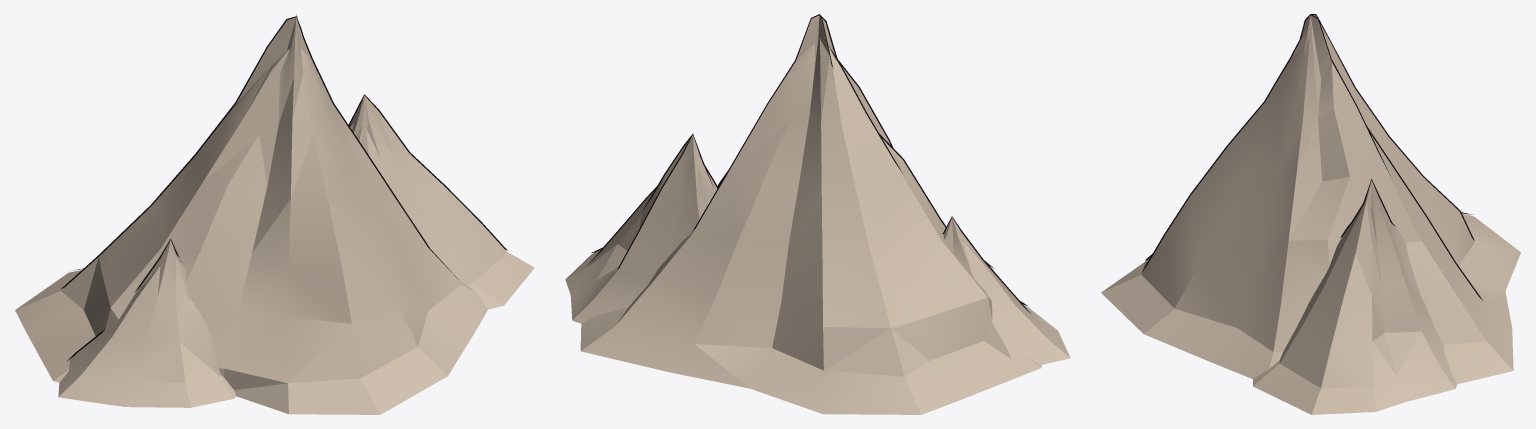
The model's file is SM_Mtn_Peak_01.fbx.
3 renders of one model, left to right at view 1: azimuth 30°, elevation 25°; view 2: azimuth 150°, elevation 25°; view 3: azimuth 270°, elevation 25°, orthographic. The views are drawn at different scales.
Parts seen in each view (by area): view 1: SM_Mtn_Peak_01; view 2: SM_Mtn_Peak_01; view 3: SM_Mtn_Peak_01.
Boxes of the visible parts, bbox=[...] form: SM_Mtn_Peak_01: bbox=[15, 14, 534, 414]; SM_Mtn_Peak_01: bbox=[565, 14, 1070, 414]; SM_Mtn_Peak_01: bbox=[1101, 14, 1520, 414].
Bounding box in the file's own units: 122 × 73.8 × 96.72.
